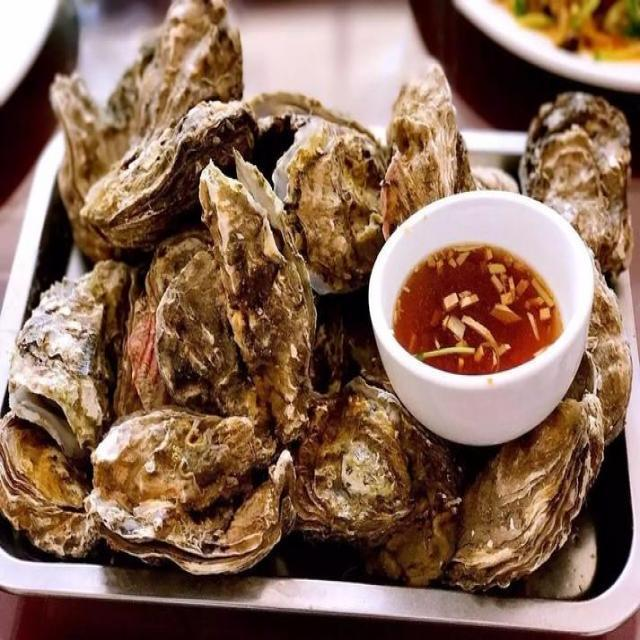Oyster- Indeterminate: (74, 395, 304, 595), (271, 373, 475, 592), (154, 244, 348, 440), (264, 98, 395, 303), (515, 79, 640, 287), (372, 49, 488, 260), (119, 0, 245, 161), (35, 59, 141, 247)
Oyster-Closed: (440, 387, 611, 599), (65, 87, 267, 263), (1, 406, 107, 568)
Oyster-Open: (192, 135, 332, 454), (0, 253, 145, 478)
